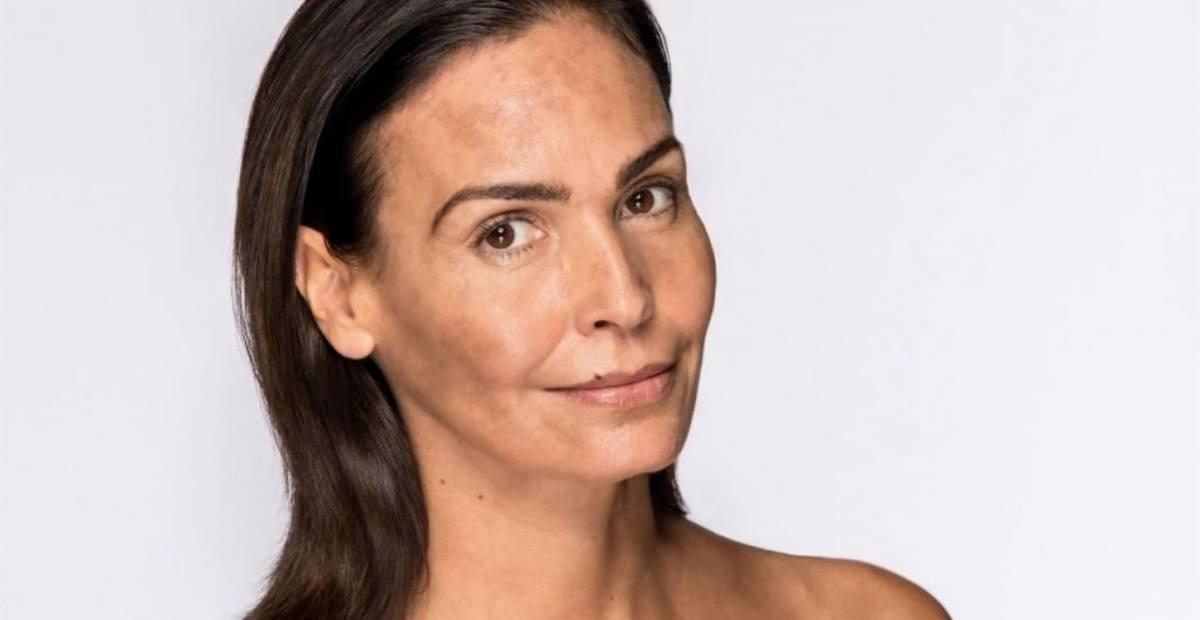Dark-Spots: (362, 47, 678, 144), (414, 236, 512, 438)
